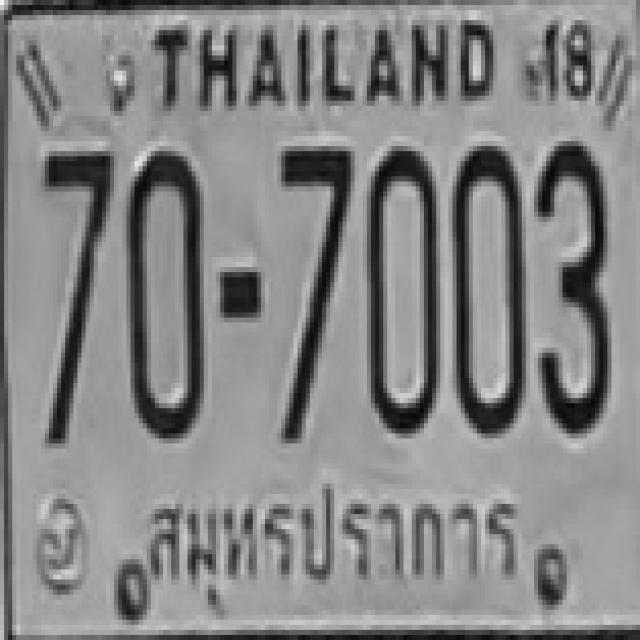0: (126, 153, 203, 440), (448, 141, 522, 433), (365, 146, 438, 434)
3: (534, 138, 607, 431)
7: (278, 141, 352, 446), (43, 148, 112, 444)
SamutPrakan: (138, 482, 524, 596)
